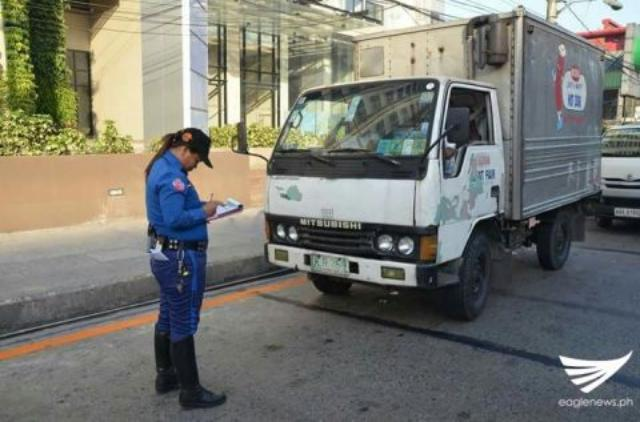truck: (258, 6, 603, 322)
